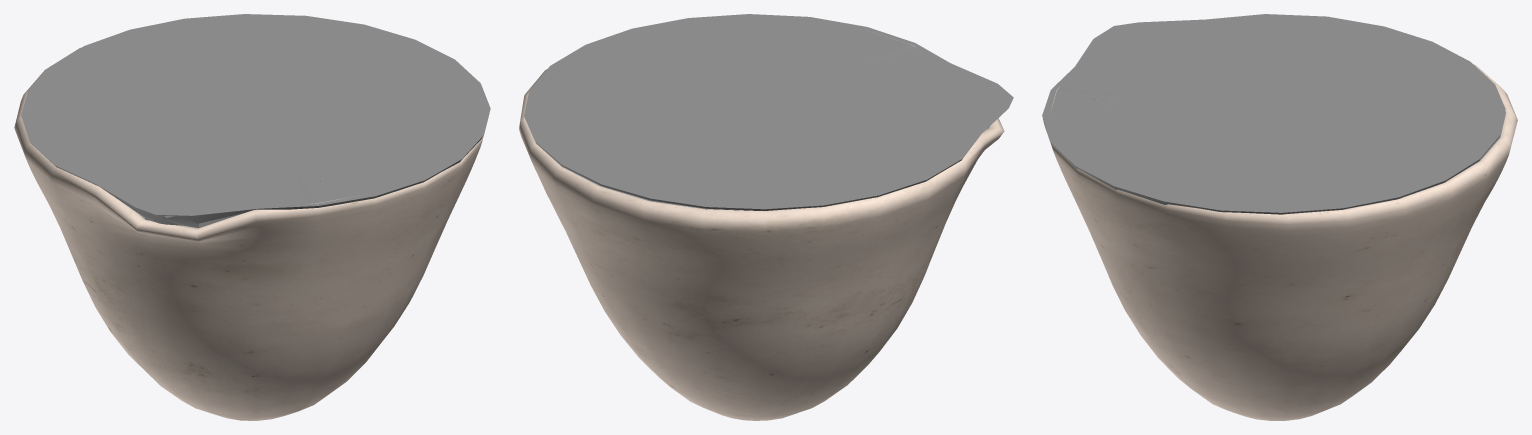
3 views of the same model, side by side, from view 1: azimuth 30°, elevation 25°; view 2: azimuth 150°, elevation 25°; view 3: azimuth 270°, elevation 25° (orthographic).
Visible parts, largest first — view 1: Object001, 301, Inner; view 2: Object001, 301, Inner; view 3: Object001, 301, Inner.
Boxes of the visible parts, <box> form: Object001: <box>21,14,490,225</box>; 301: <box>14,48,483,420</box>; Inner: <box>138,176,373,227</box>; Object001: <box>524,14,1013,210</box>; 301: <box>519,44,1004,420</box>; Inner: <box>539,29,989,210</box>; Object001: <box>1042,14,1505,214</box>; 301: <box>1043,64,1517,420</box>; Inner: <box>1049,86,1505,177</box>.
Size of the model in its own units: 139 by 96.47 by 139.
Materials: 2 (1 with a texture image).
